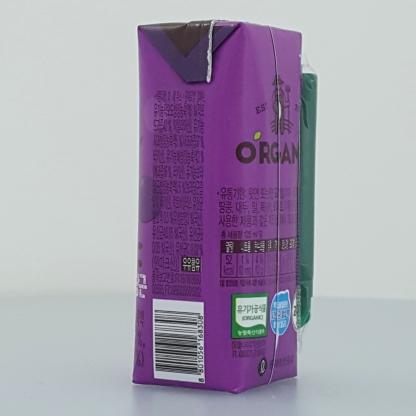---------------: (132, 19, 317, 394)
